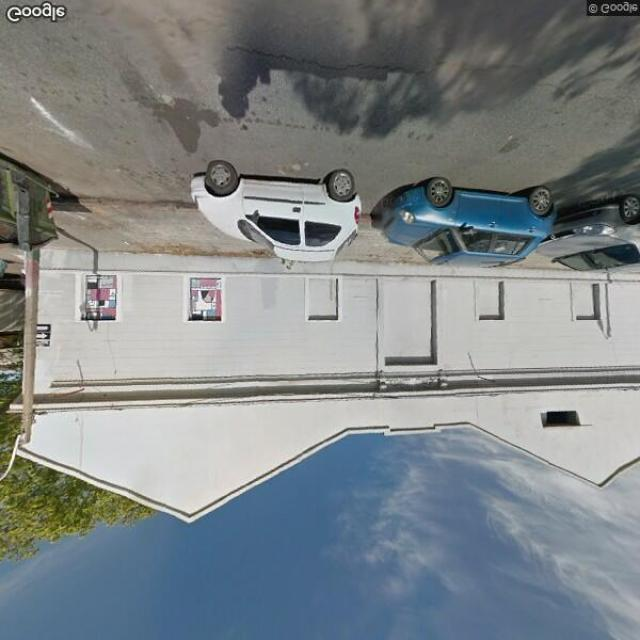garbage container: (2, 156, 71, 259)
